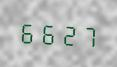seven: (78, 21, 97, 49)
six: (18, 17, 37, 45), (38, 18, 57, 46)
two: (58, 20, 77, 47)
